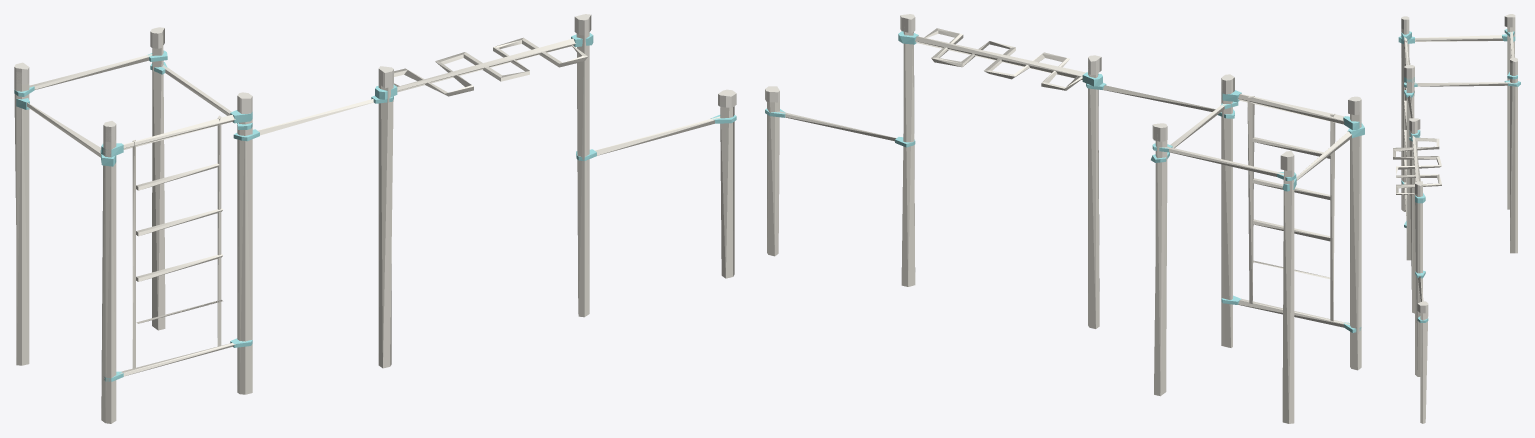
File: Детский комплекс_1.glb
3 renders of one model, left to right at view 1: azimuth 30°, elevation 25°; view 2: azimuth 150°, elevation 25°; view 3: azimuth 270°, elevation 25°, orthographic. The views are drawn at different scales.
Parts seen in each view (by area): view 1: Curbed_Area001.002; view 2: Curbed_Area001.002; view 3: Curbed_Area001.002.
Part boxes in pixels (x1=…): Curbed_Area001.002: x1=14, y1=14, x2=736, y2=423; Curbed_Area001.002: x1=765, y1=14, x2=1364, y2=423; Curbed_Area001.002: x1=1393, y1=14, x2=1520, y2=423.
Size of the model in its own units: 6.13 by 2.84 by 1.61.
Materials: 1 (1 with a texture image).
